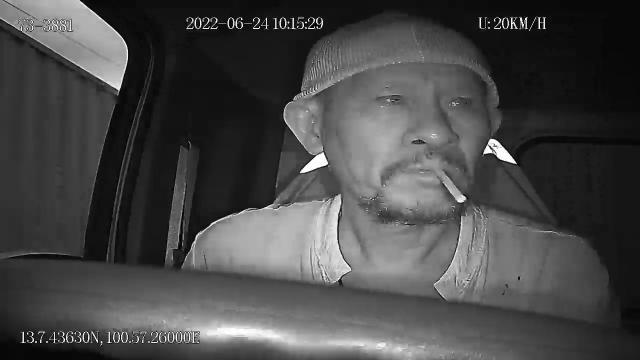SafeDriving: (368, 80, 414, 114), (436, 84, 481, 118)
Smoking: (432, 166, 473, 207)
